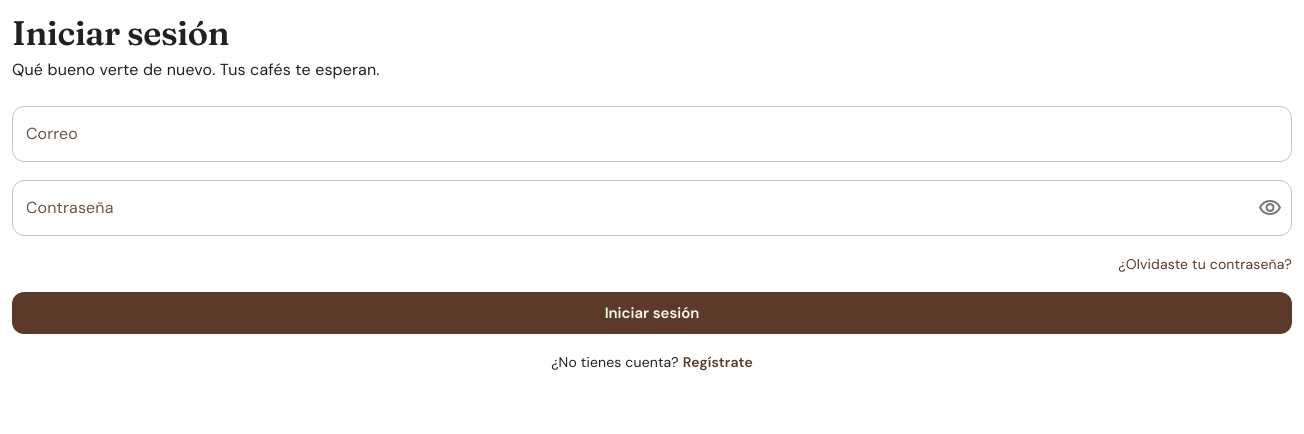
Test: LoginForm › shows the form and its validation errors in Spanish
This screenshot has width=1304, height=434.
Click the button "Iniciar sesión": (652, 313) [12, 292, 1292, 334]
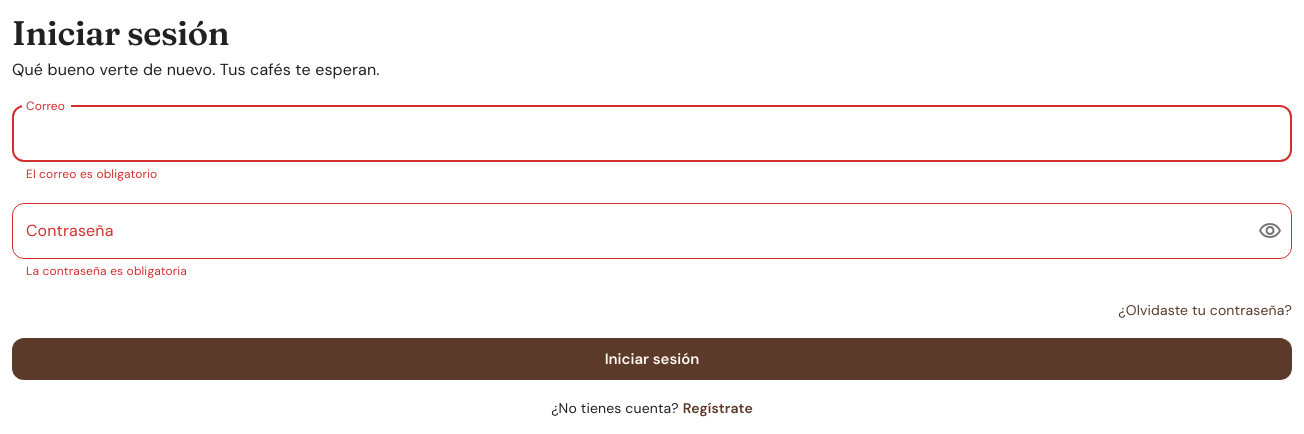
Now the text "El correo es obligatorio" is shown, box [26, 166, 157, 182]
